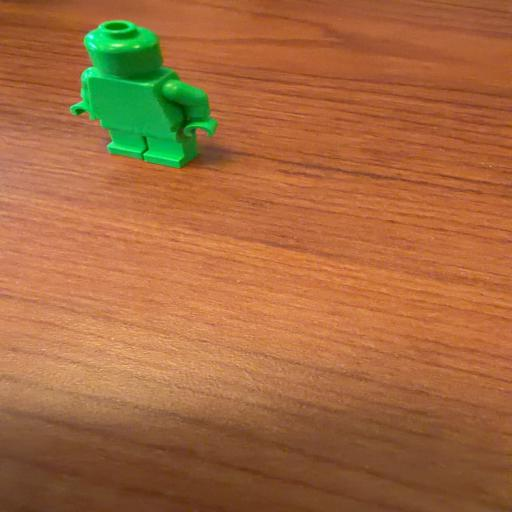UnoQ-minifig-detector: (70, 20, 218, 168)
